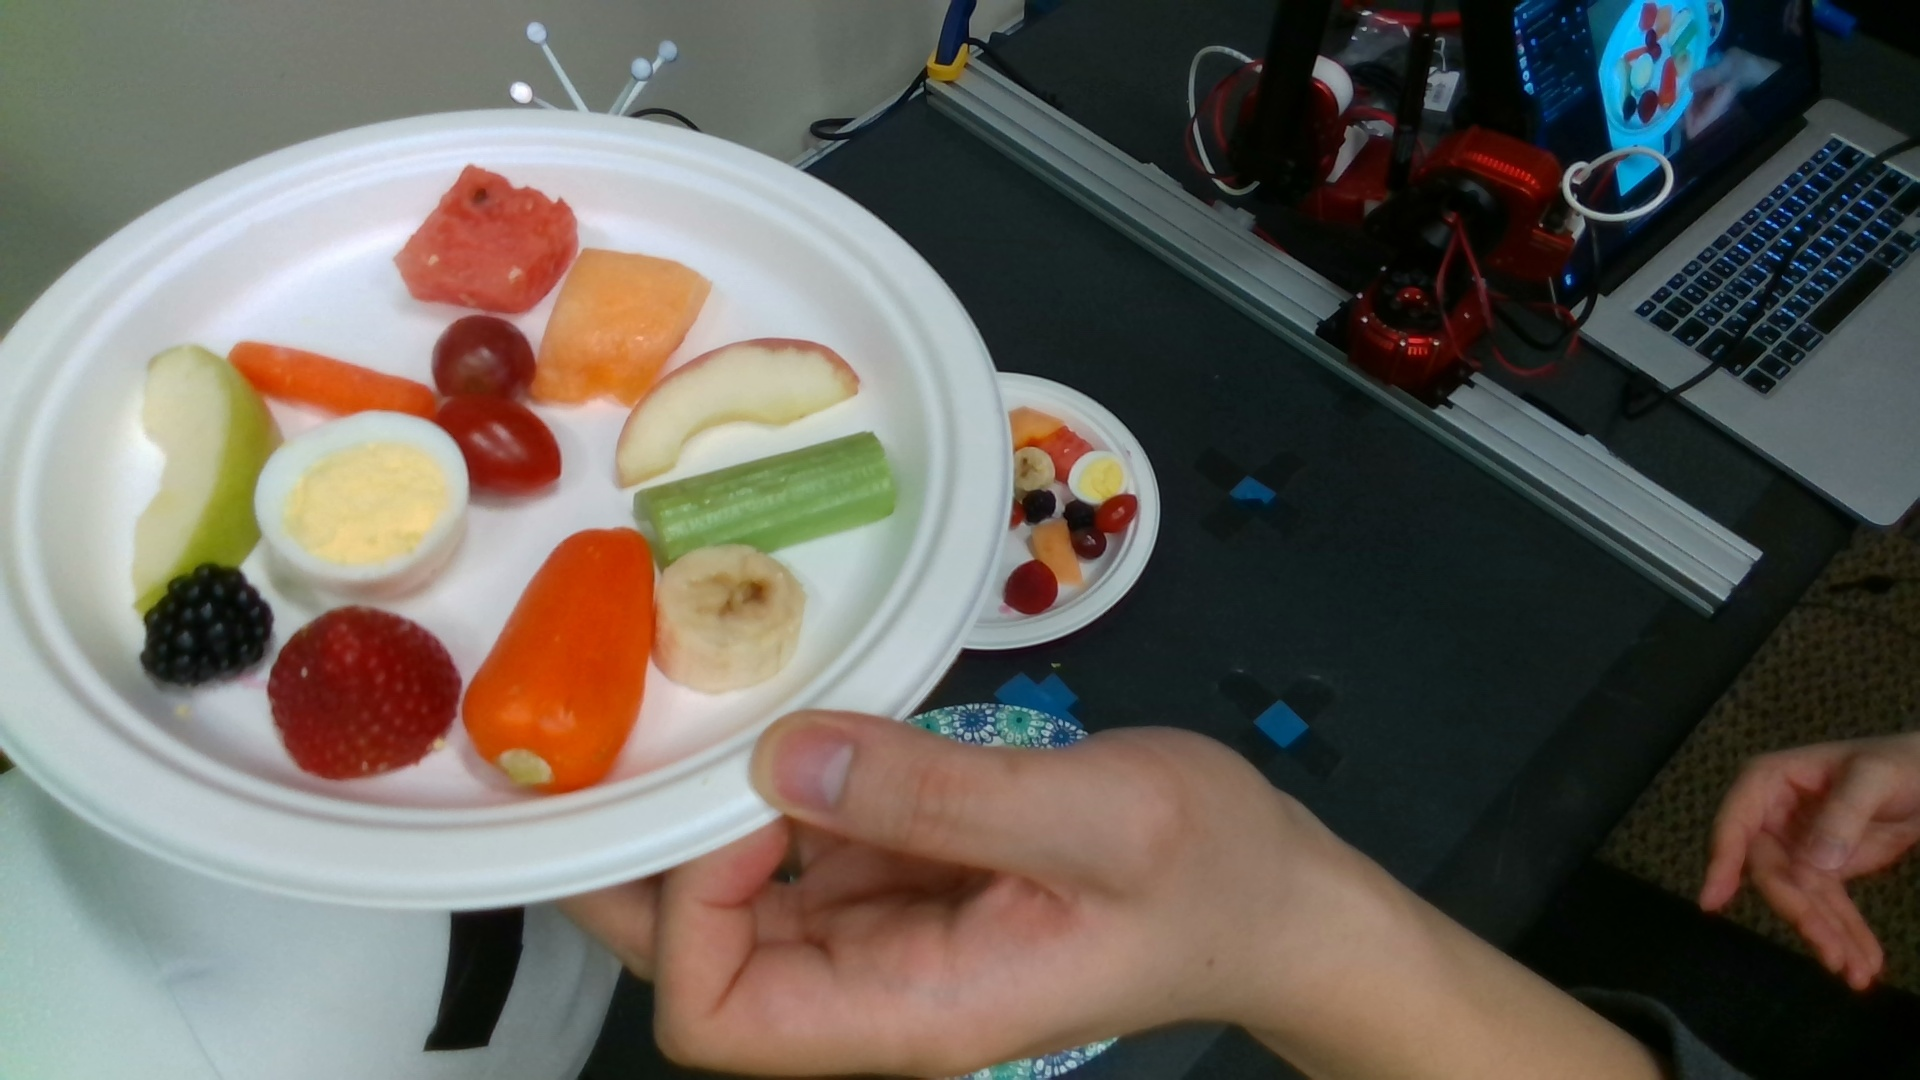apple: (135, 342, 284, 616), (615, 342, 858, 483)
banana: (654, 547, 800, 694), (1011, 448, 1054, 491)
bell pepper: (463, 527, 655, 791)
blackberry: (142, 564, 269, 683), (1025, 491, 1056, 521), (1065, 500, 1093, 527)
cantalope: (535, 248, 712, 400), (1034, 522, 1083, 583), (1006, 409, 1062, 444)
carrot: (227, 342, 436, 418)
celery: (634, 431, 894, 564)
cherry tomato: (440, 394, 564, 491), (1098, 496, 1135, 531)
egg: (255, 411, 471, 599), (1069, 451, 1126, 502)
grape: (433, 315, 537, 396), (1073, 529, 1106, 558)
melon: (396, 165, 580, 314)
plate: (1, 108, 1010, 911), (963, 372, 1160, 647)
strawberry: (276, 609, 460, 778), (1004, 560, 1056, 613)
